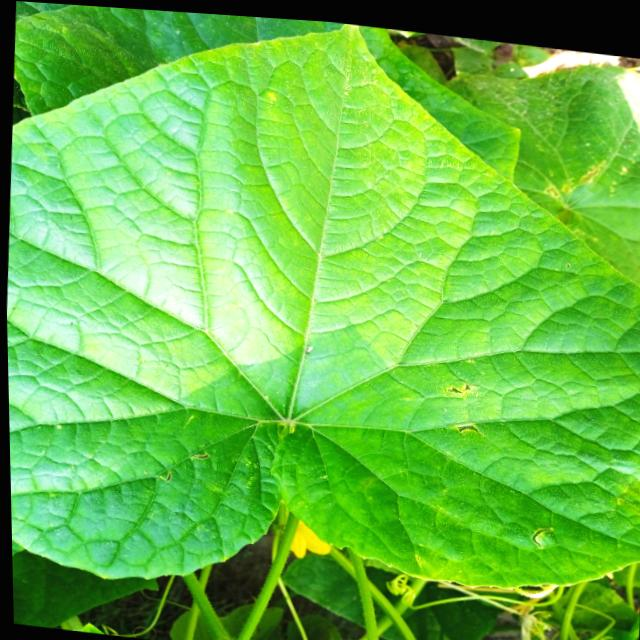Fresh-Leaf: (7, 26, 640, 591)
